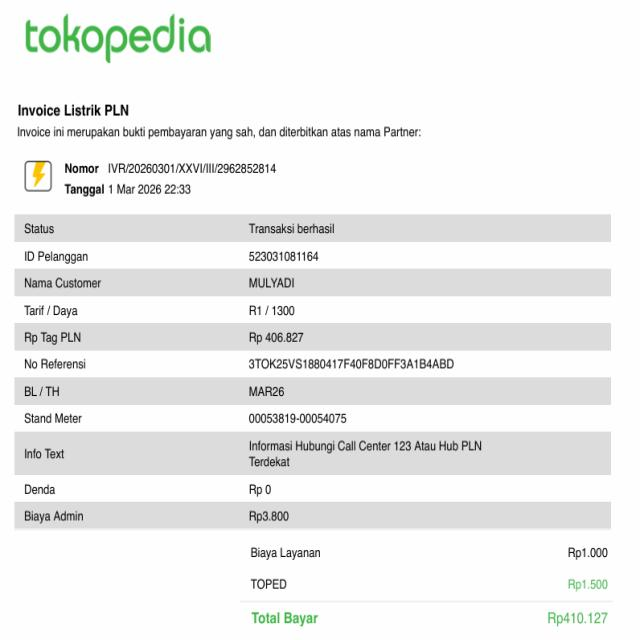date: (106, 183, 198, 198)
store: (22, 16, 216, 60), (16, 102, 134, 124)
total: (247, 605, 620, 632)
